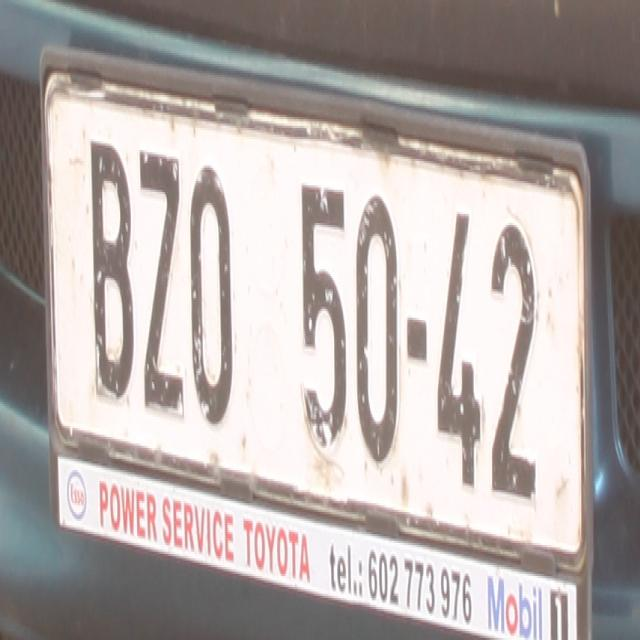0: (355, 201, 402, 463), (189, 164, 231, 422)
2: (492, 223, 540, 510)
4: (437, 205, 482, 492)
5: (298, 178, 346, 454)
B: (89, 132, 133, 395)
Z: (139, 146, 186, 426)
